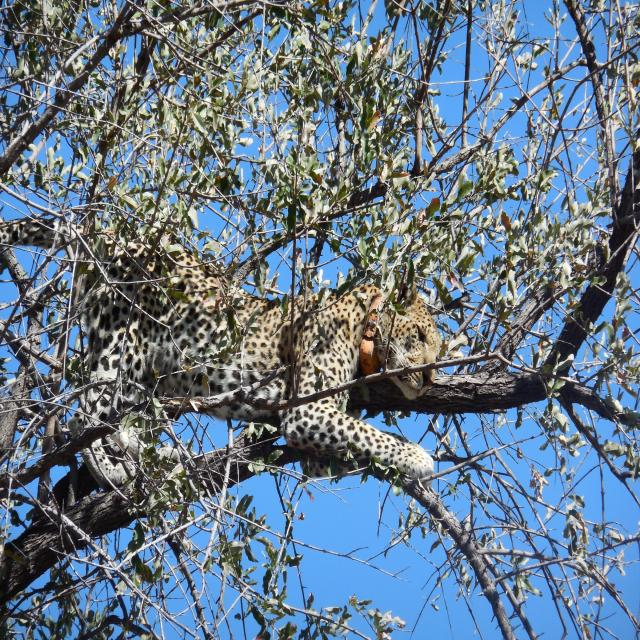Leopard: (19, 209, 457, 491)
